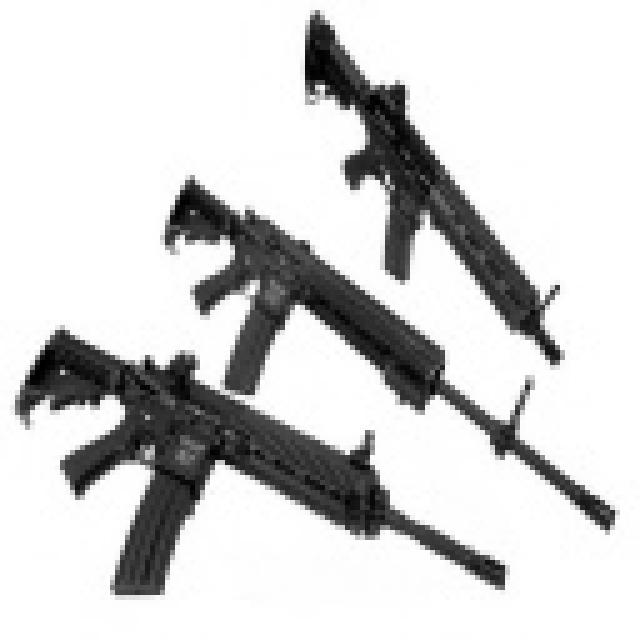Rifle: (136, 130, 632, 570), (0, 310, 520, 640), (290, 0, 589, 405)
